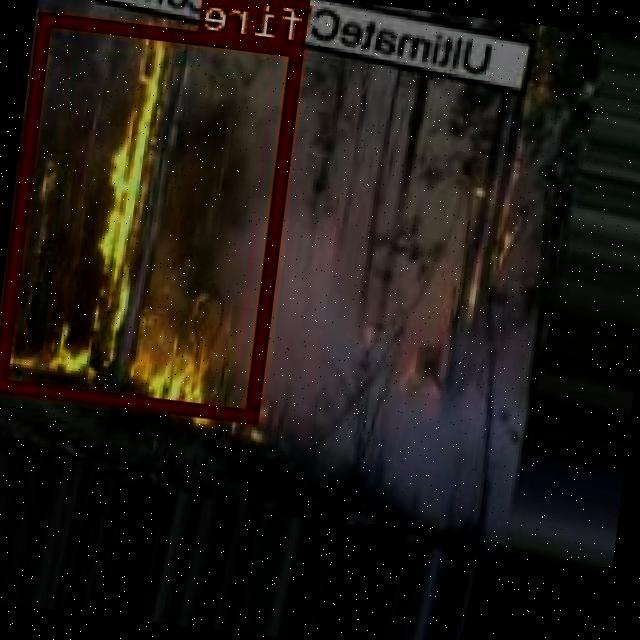fire: (0, 9, 307, 421)
